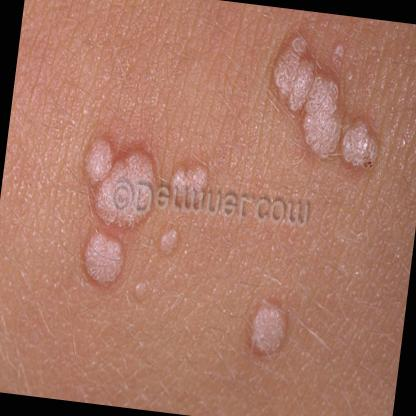Warts: (260, 33, 344, 168), (74, 226, 132, 296), (334, 115, 388, 183), (242, 296, 292, 368)
